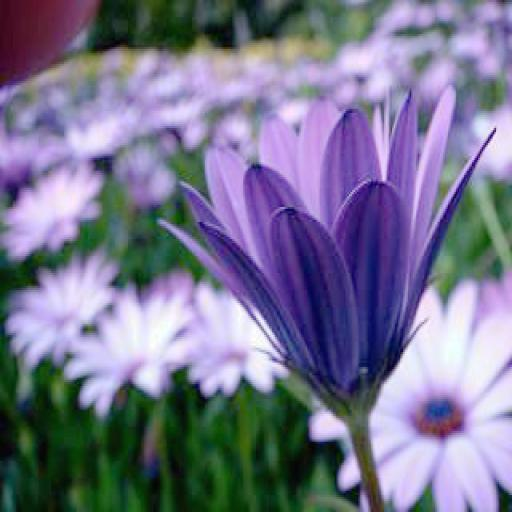daisy: (200, 109, 459, 386), (381, 288, 512, 508)
